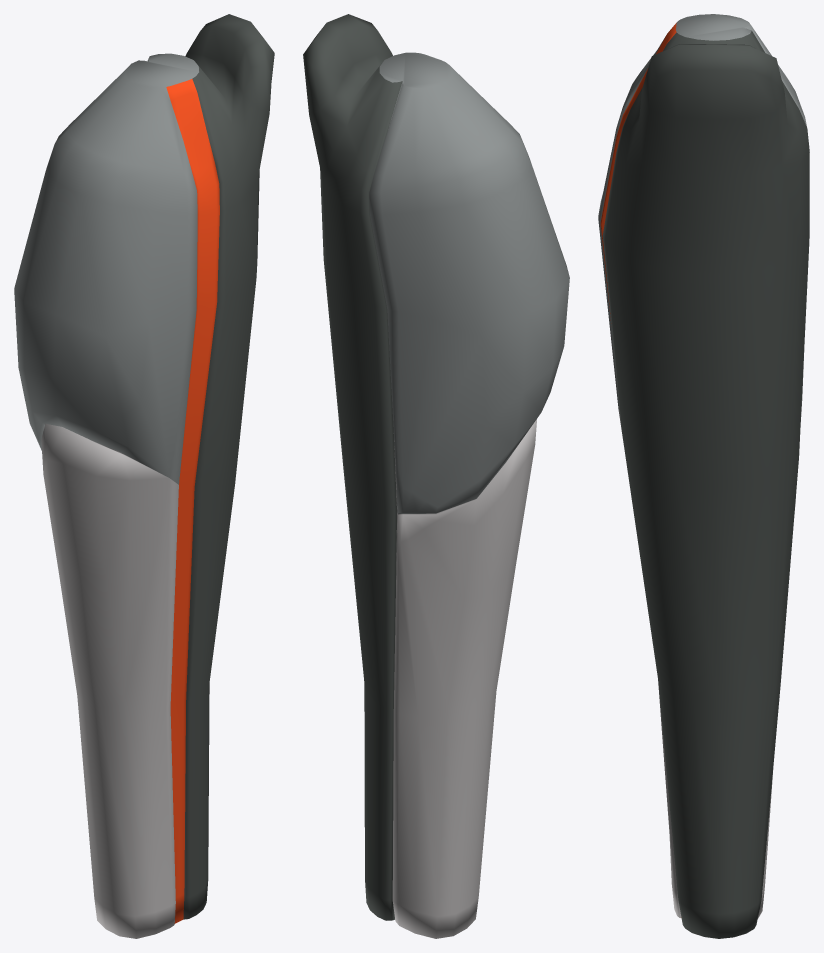
Rendered from xsens_RightLowerLeg.dae.
3 renders of one model, left to right at view 1: azimuth 30°, elevation 25°; view 2: azimuth 150°, elevation 25°; view 3: azimuth 270°, elevation 25°, orthographic. The views are drawn at different scales.
Parts seen in each view (by area): view 1: RightLowerLeg; view 2: RightLowerLeg; view 3: RightLowerLeg.
Part boxes in pixels (x1,y1,x2,y2): RightLowerLeg: (14,14,274,938); RightLowerLeg: (303,14,569,938); RightLowerLeg: (598,14,809,938).
Bounding box in the file's own units: 0.1213 × 0.0872 × 0.4211.
